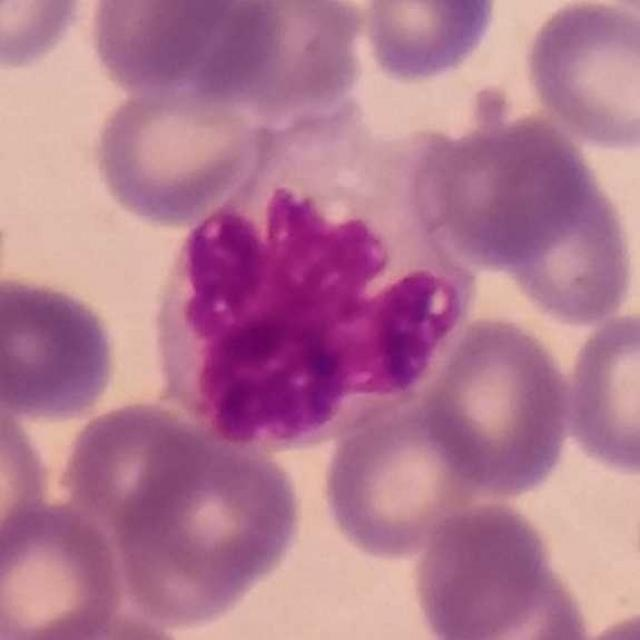Monocyte: (136, 117, 477, 454)
Platelets: (464, 84, 522, 134)
RBC: (108, 427, 307, 629), (87, 68, 284, 229), (418, 311, 576, 502), (318, 394, 494, 563), (484, 139, 639, 330), (412, 113, 591, 270), (407, 496, 562, 640), (57, 396, 211, 532), (210, 0, 371, 118), (518, 0, 640, 153), (0, 269, 122, 421), (0, 497, 127, 640), (81, 0, 254, 98), (560, 306, 640, 480), (357, 0, 503, 87), (0, 389, 53, 565), (0, 0, 91, 73), (15, 609, 198, 640), (560, 603, 640, 640)
